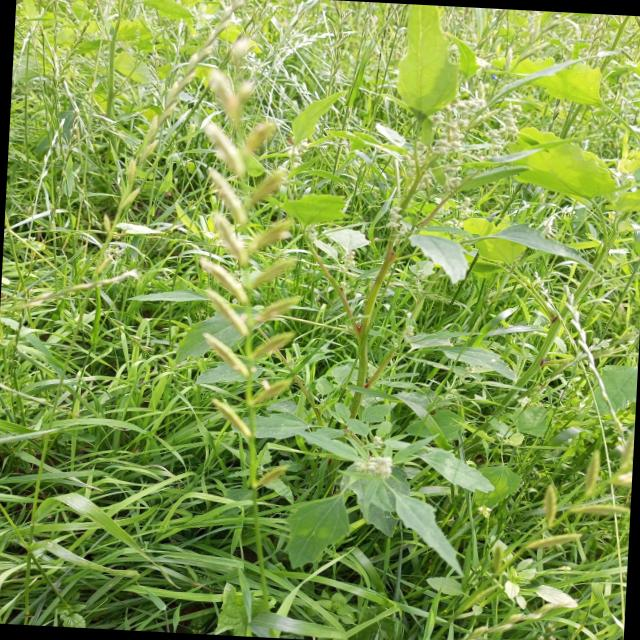Lolium: (163, 28, 298, 480), (87, 0, 246, 277), (26, 228, 465, 308), (485, 418, 635, 586), (296, 258, 462, 306), (46, 104, 150, 176), (554, 288, 619, 402), (502, 9, 576, 94), (447, 592, 575, 640), (531, 274, 584, 356), (46, 108, 80, 232), (345, 1, 377, 126), (605, 15, 640, 126), (227, 0, 269, 91), (372, 2, 401, 122), (322, 0, 352, 101), (577, 13, 612, 89), (57, 18, 93, 88), (142, 19, 168, 110), (47, 0, 64, 122), (476, 8, 512, 54), (440, 6, 458, 62)
